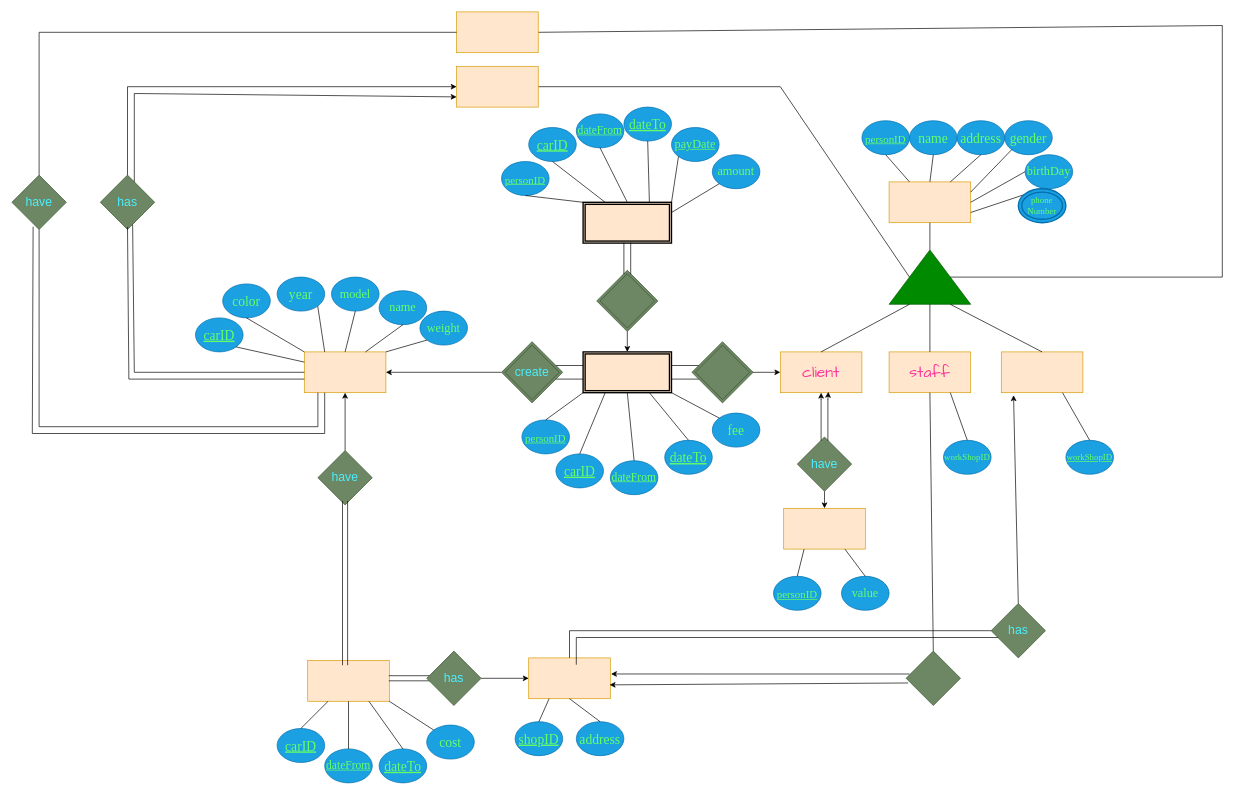
The diagram is 1235 pixels wide and 795 high, and some of its shapes have lost their labels. Here are the shapes that lost their labels. From the top down, the centre of each, then its label:
[497,32]: maker
[497,86]: owner
[627,222]: payment
[929,202]: person
[929,276]: IS A
[626,300]: paying
[345,372]: car
[627,372]: reserve
[722,372]: doing
[1042,372]: manager
[824,528]: wallet
[348,680]: fixing
[569,678]: workShop
[933,678]: works
